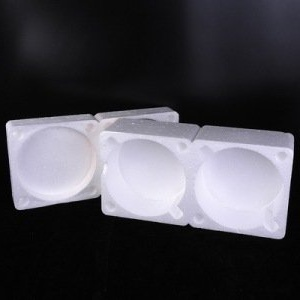5/可回收垃圾/泡沫: (98, 118, 295, 240), (5, 106, 181, 210)
